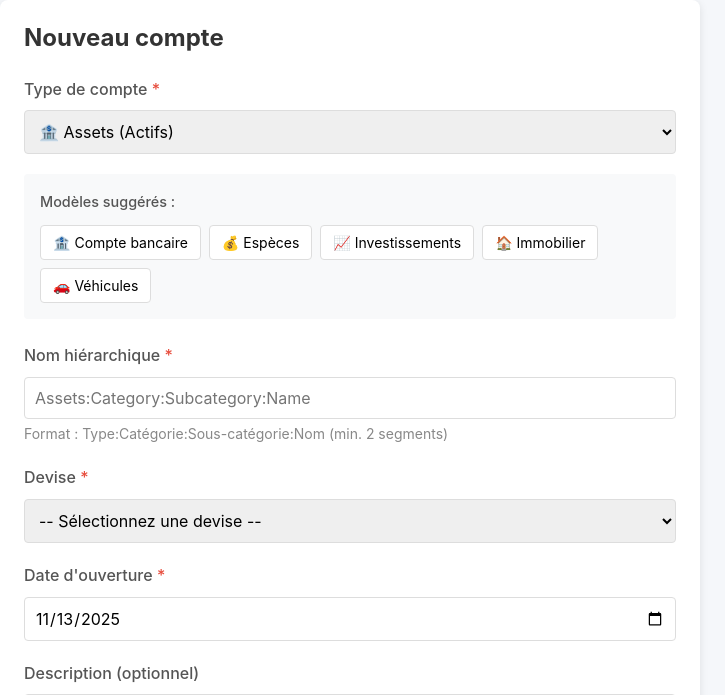
Test: AccountForm - Mode Ajout › devrait changer les modèles suggérés selon le type sélectionné
Expected: the button "🏦 Compte bancaire" is shown, top-left (40, 225), bottom-right (201, 260)
Note: Changer pour Expenses
Select "💸 Expenses (Dépenses)" in the dropdown labelled "Type de compte *". click: x=350, y=132
box: top-left (24, 110), bottom-right (676, 154)
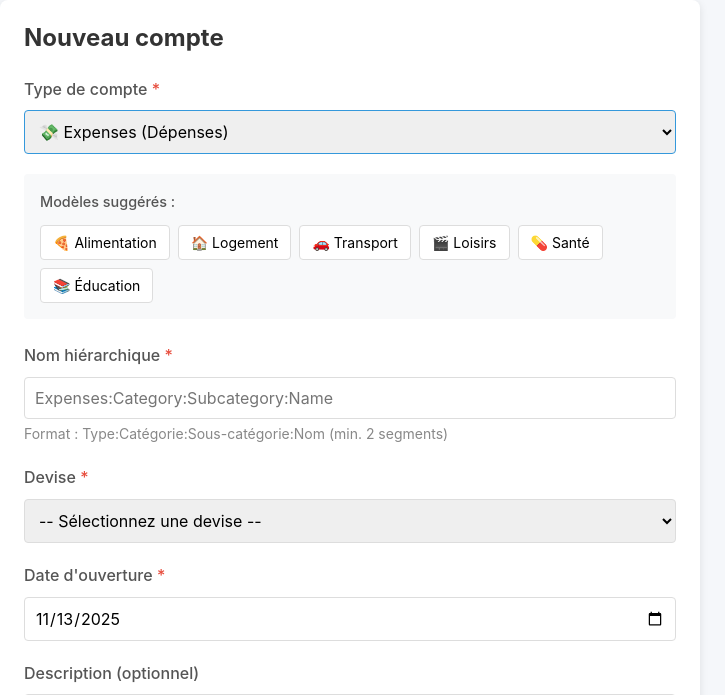
Expected: the button "🍕 Alimentation" is shown, top-left (40, 225), bottom-right (170, 260)
Expected: the button "🏠 Logement" is shown, top-left (178, 225), bottom-right (292, 260)
